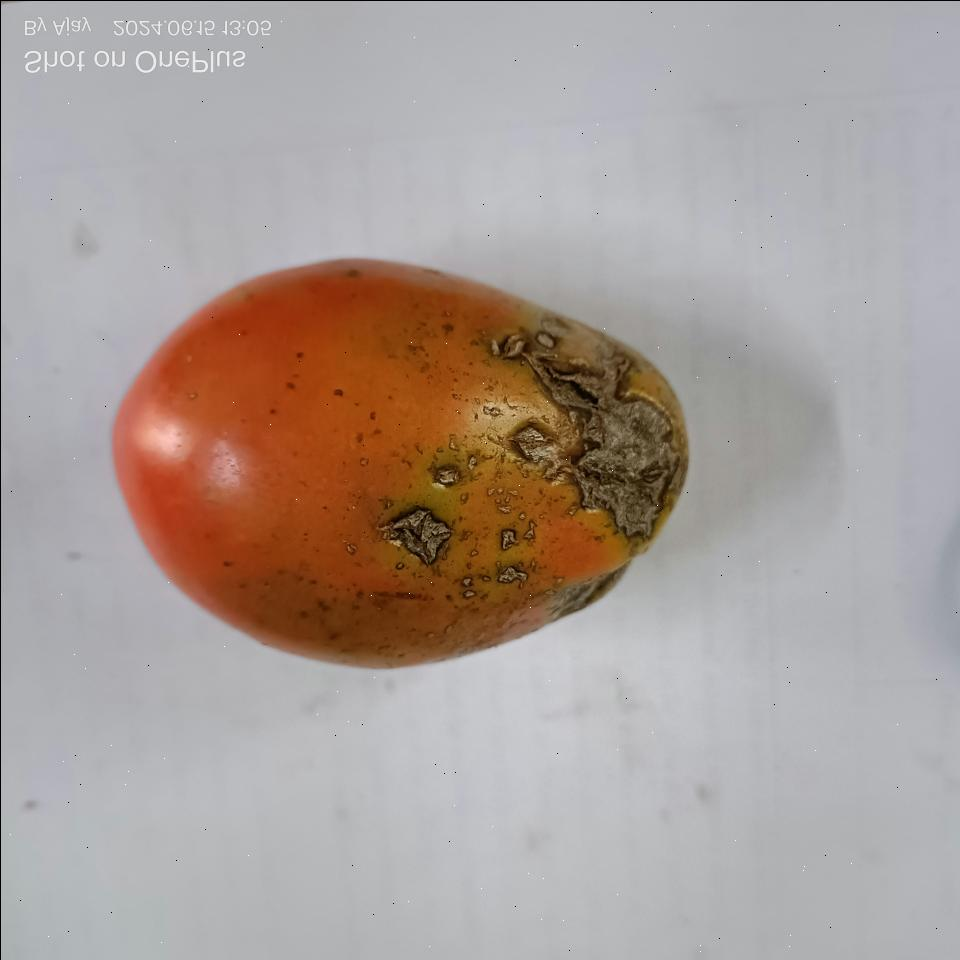Bacterial_Spot: (570, 396, 652, 540), (380, 508, 450, 565), (547, 352, 631, 392), (509, 426, 558, 482), (656, 410, 676, 498), (496, 520, 536, 552), (425, 458, 463, 488), (491, 332, 523, 359), (492, 565, 528, 587), (563, 582, 589, 610), (373, 590, 421, 601), (460, 574, 477, 598)
